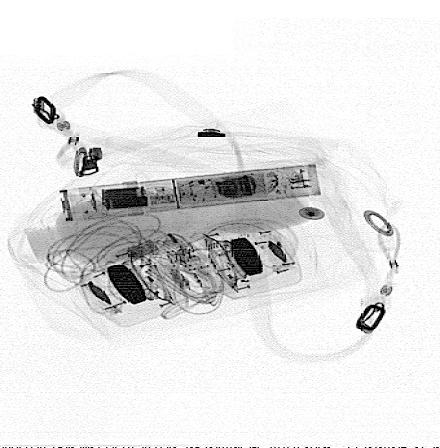Baton: (57, 163, 323, 223)
